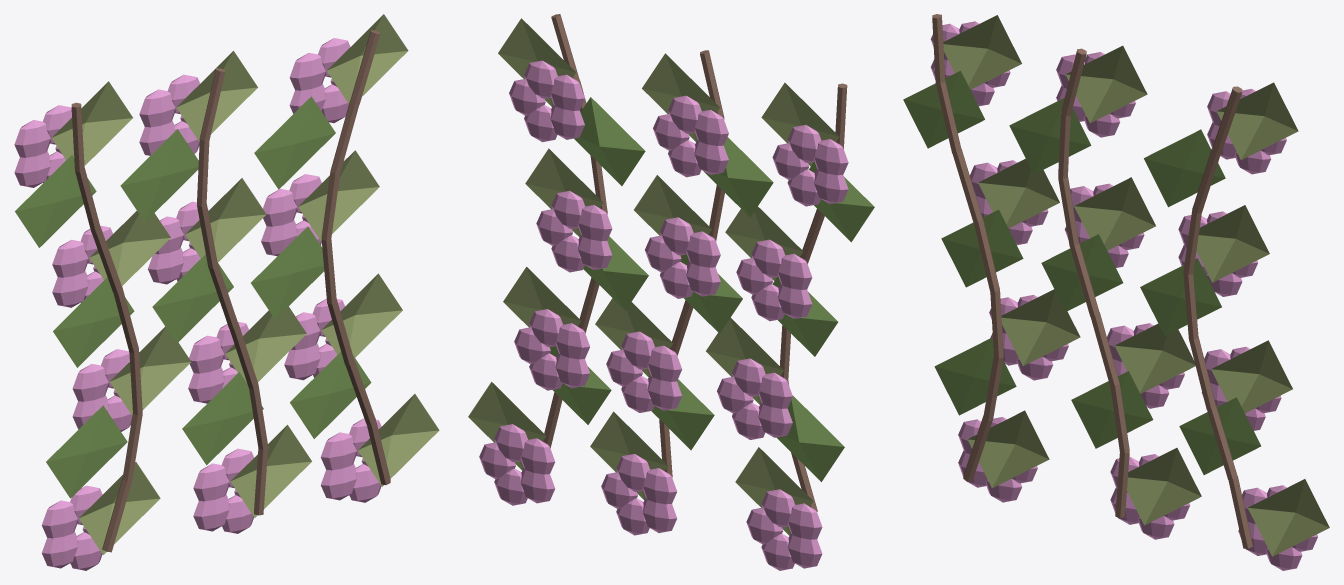
The model's file is blossoming_vines.glb.
3 renders of one model, left to right at view 1: azimuth 30°, elevation 25°; view 2: azimuth 150°, elevation 25°; view 3: azimuth 330°, elevation 25°, orthographic. The views are drawn at different scales.
Size of the model in its own units: 0.8819 by 0.9877 by 0.1237.
